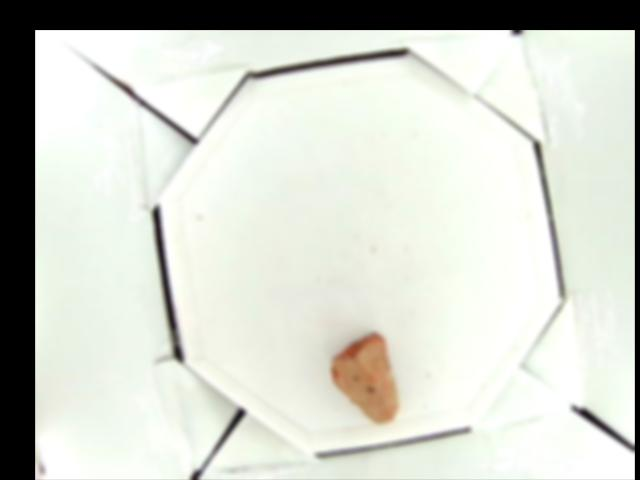Brisk: (330, 331, 398, 425)
